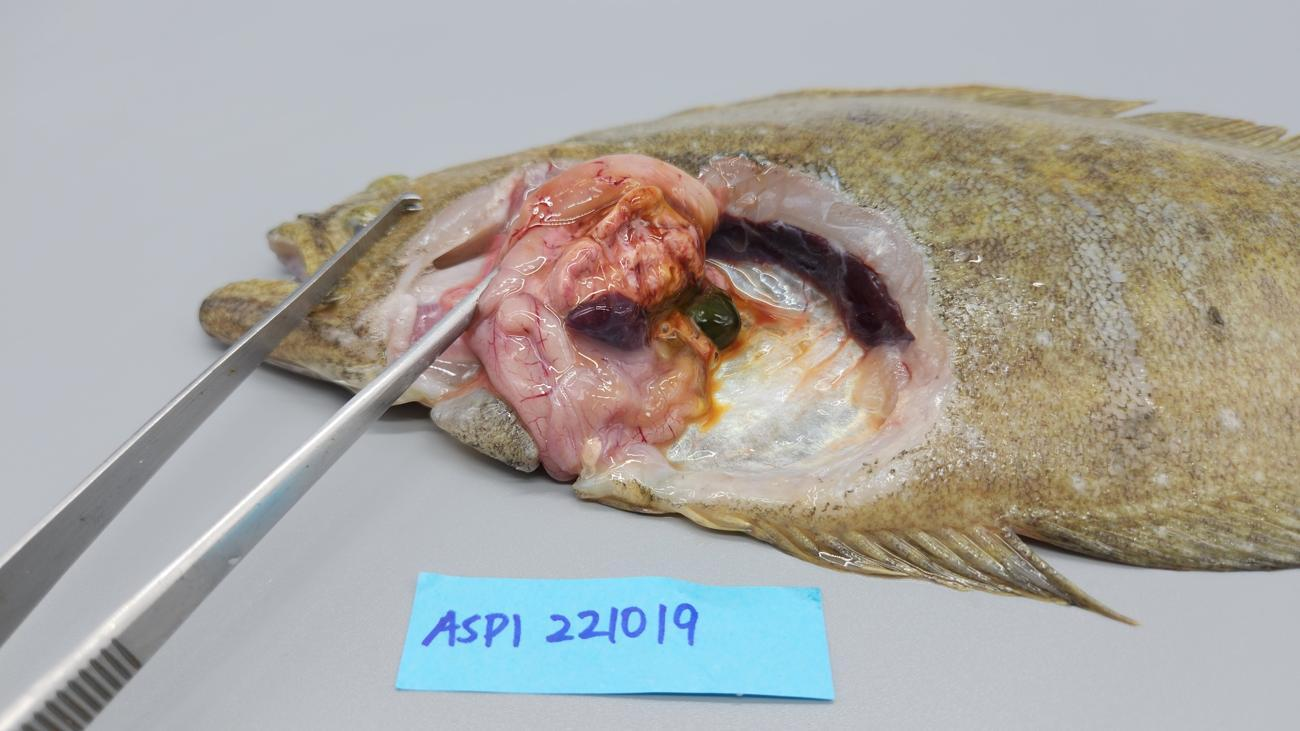SPSPE: (565, 293, 652, 351)
